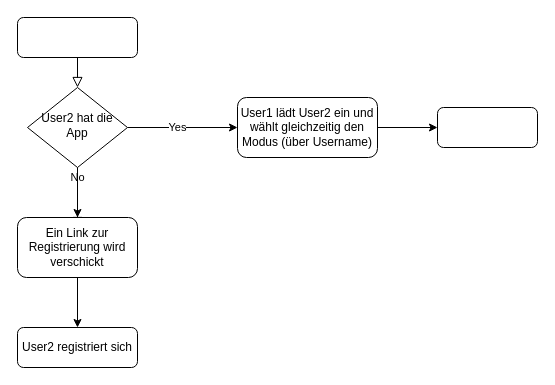
The diagram is 555 pixels wide and 385 high, and some of its shapes have lost their labels. The centre of each missing label's shape, as x and y in pixels:
"User1 Login" goes at point 77,37.
"User2 bestätigt Einladung" goes at point 487,127.
